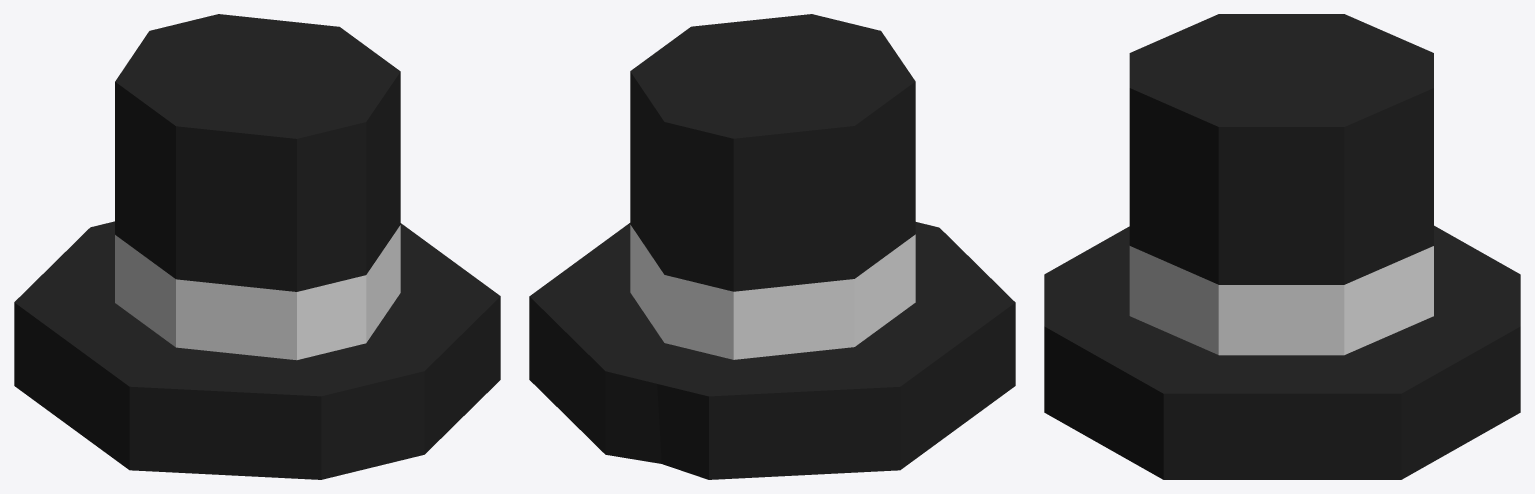
File: goose_hair.glb
3 renders of one model, left to right at view 1: azimuth 30°, elevation 25°; view 2: azimuth 150°, elevation 25°; view 3: azimuth 270°, elevation 25°, orthographic. The views are drawn at different scales.
Parts seen in each view (by area): view 1: Cube; view 2: Cube; view 3: Cube.
Boxes of the visible parts, bbox=[...] form: Cube: bbox=[14, 14, 500, 479]; Cube: bbox=[529, 14, 1015, 479]; Cube: bbox=[1044, 14, 1520, 479].
Bounding box in the file's own units: 0.4945 × 0.3904 × 0.5329.
Materials: 2 (1 with a texture image).
